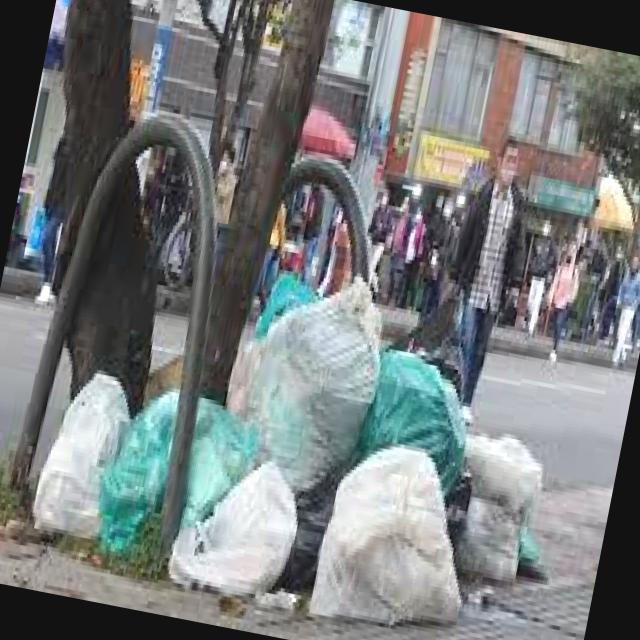garbage: (8, 223, 584, 640)
